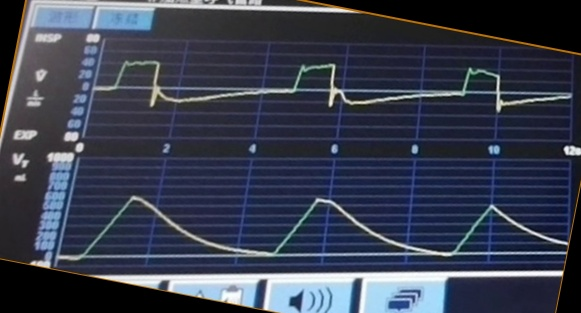Premature_cycling Flow: (101, 57, 564, 132)
Premature_cycling Volume: (68, 189, 562, 263)
